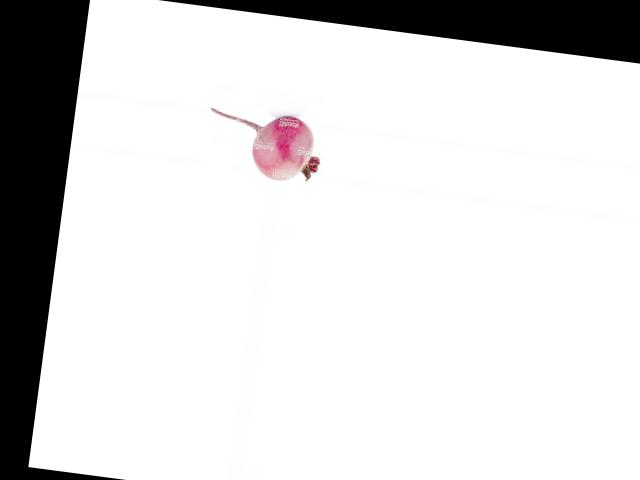beet: (203, 105, 325, 184)
